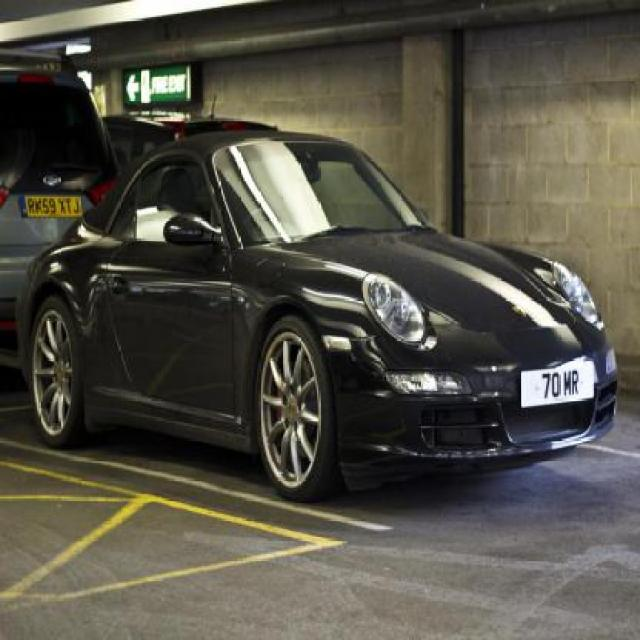License-Plates: (520, 369, 594, 407)
